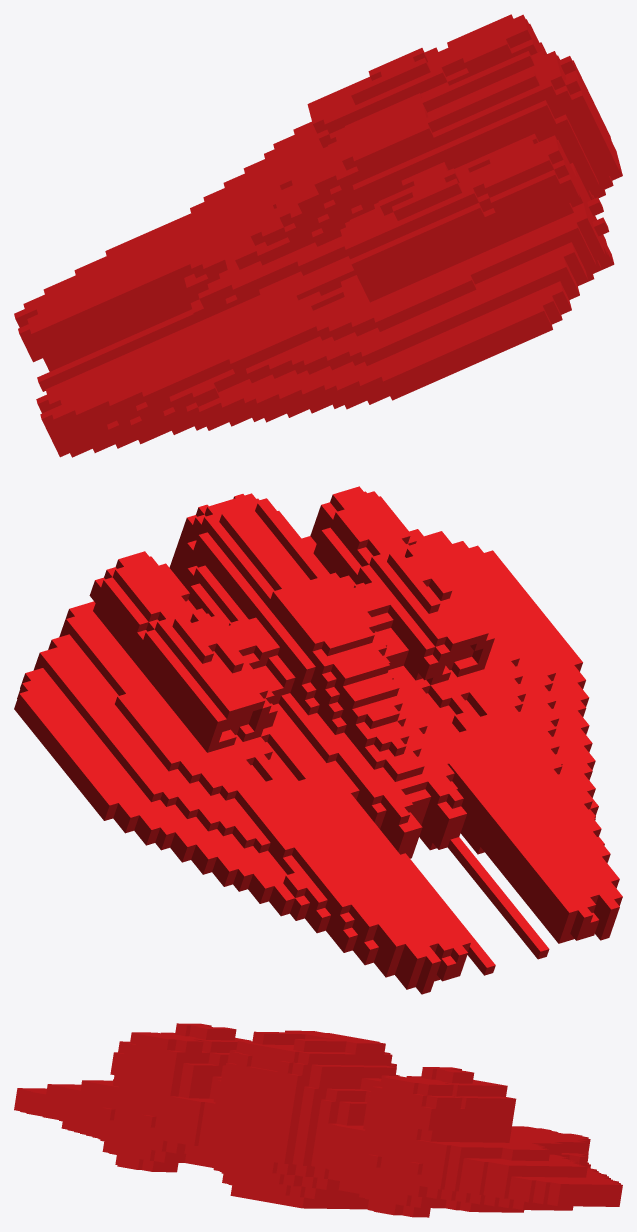
The model's file is enemigo1.fbx.
3 views of the same model, one above another, from view 1: azimuth 30°, elevation 25°; view 2: azimuth 150°, elevation 25°; view 3: azimuth 270°, elevation 25° (orthographic). The views are drawn at different scales.
Parts seen in each view (by area): view 1: base.001; view 2: base.001; view 3: base.001.
Boxes of the visible parts, left/top/right/bottom form: base.001: left=14, top=14, right=622, bottom=457; base.001: left=14, top=486, right=622, bottom=994; base.001: left=14, top=1023, right=622, bottom=1217.
Size of the model in its own units: 176 by 96.72 by 175.
